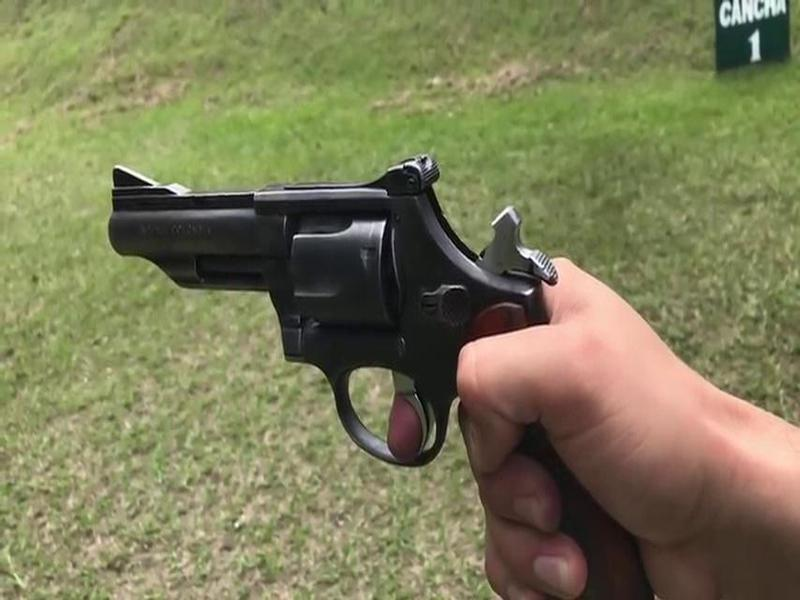Revolver: (111, 143, 627, 558)
